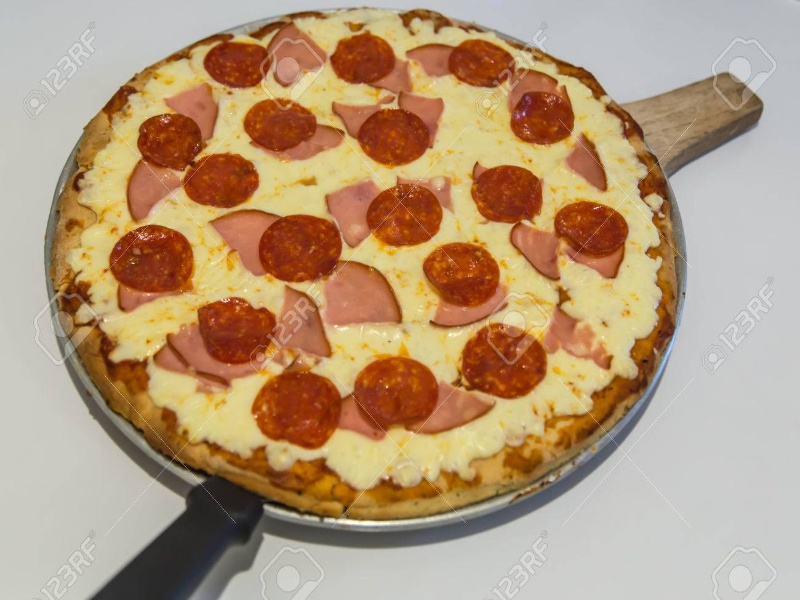pepperonis: (450, 322, 554, 401), (252, 366, 343, 448), (352, 356, 443, 428), (102, 225, 199, 291), (256, 211, 342, 284), (197, 298, 278, 363), (424, 241, 504, 303), (242, 92, 318, 152), (366, 186, 441, 246), (180, 154, 263, 207), (131, 112, 206, 170), (554, 200, 632, 255), (358, 106, 428, 167), (471, 165, 545, 222), (510, 87, 573, 146), (451, 34, 518, 88), (328, 33, 393, 84), (201, 43, 276, 87)
